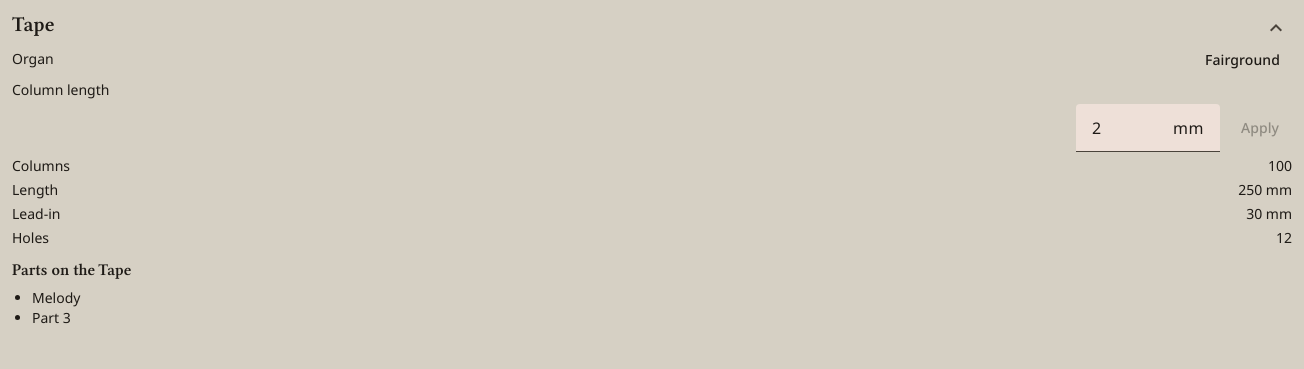
Test: TapeSectionComponent › changing the Column length (T006) › the hint of the Cutting Problems (T013) › shows the Cutting Problems now and with the typed Column length
The image size is (1304, 369).
Replace the text in the field with test id "column-length-input" with "1" at (1133, 128), box [1092, 116, 1173, 140]
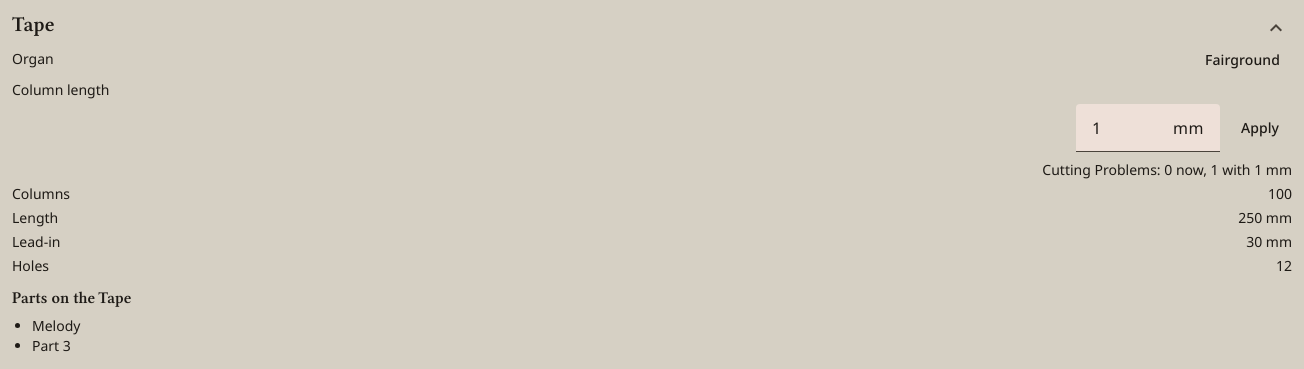
Now the text with test id "column-length-hint" reads "Cutting Problems: 0 now, 1 with 1 mm", box [1042, 160, 1292, 179]
